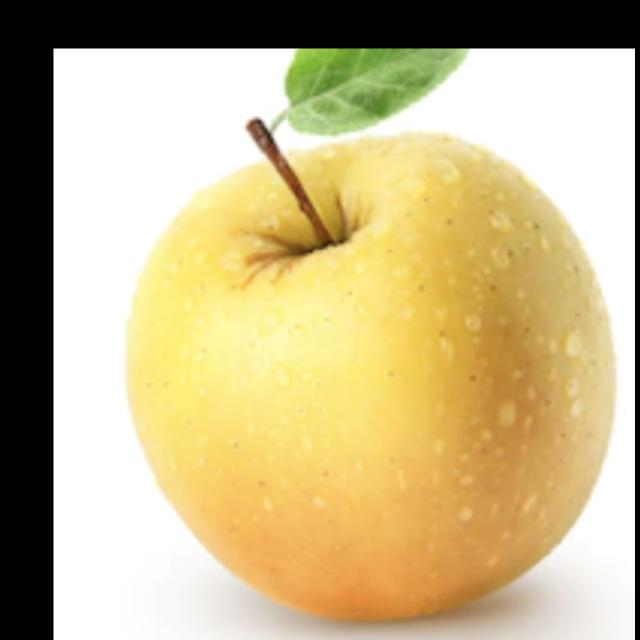Apel Segar: (99, 160, 635, 624)
